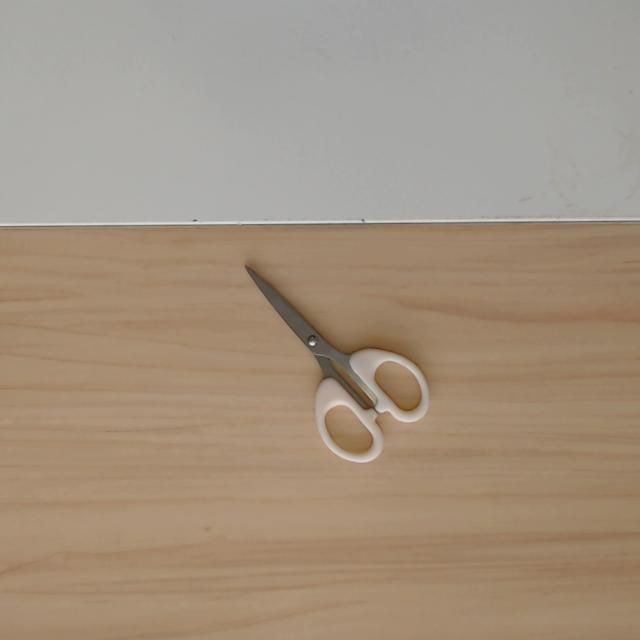Gunting: (186, 265, 445, 483)
